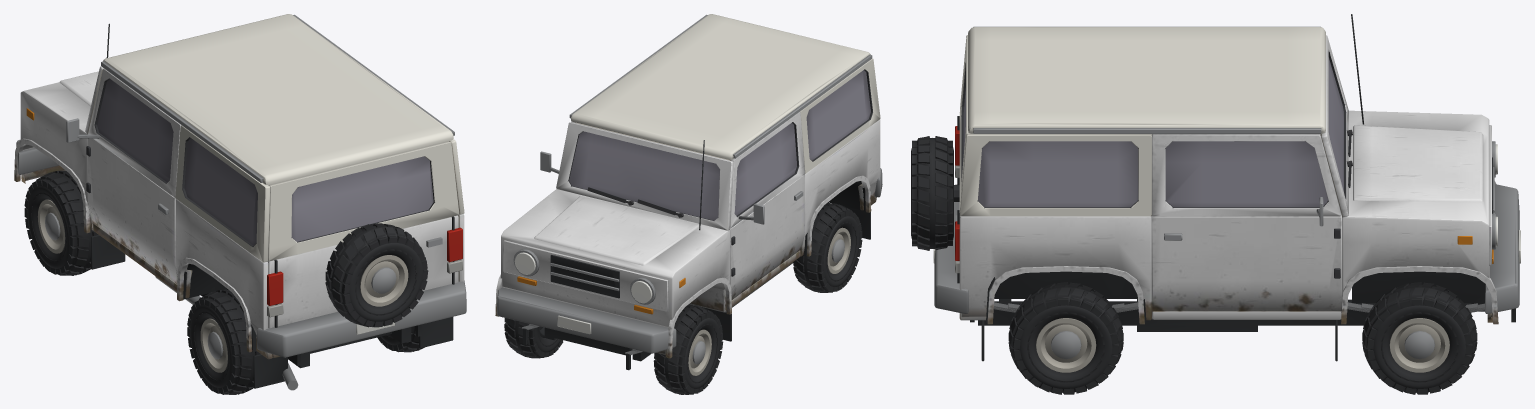
File: bronc.m.glb
The picture shows the model from 3 angles, left to right: view 1: azimuth 30°, elevation 25°; view 2: azimuth 150°, elevation 25°; view 3: azimuth 270°, elevation 25°; orthographic projection. The views are drawn at different scales.
Parts seen in each view (by area): view 1: body, door_FL, wheel_FL, wheel_RL, wheel_RR; view 2: body, door_FL, wheel_FL, wheel_RL, wheel_FR; view 3: body, door_FR, wheel_RR, wheel_FR.
Part boxes in pixels (bbox=[...]): body: bbox=[14, 14, 466, 390]; door_FL: bbox=[66, 68, 181, 283]; wheel_FL: bbox=[24, 171, 98, 275]; wheel_RL: bbox=[187, 290, 260, 394]; wheel_RR: bbox=[377, 326, 424, 352]; body: bbox=[495, 14, 882, 370]; door_FL: bbox=[730, 112, 804, 299]; wheel_FL: bbox=[653, 305, 723, 394]; wheel_RL: bbox=[793, 203, 862, 292]; wheel_FR: bbox=[504, 318, 563, 358]; body: bbox=[911, 14, 1520, 361]; door_FR: bbox=[1152, 134, 1341, 311]; wheel_RR: bbox=[1008, 282, 1123, 394]; wheel_FR: bbox=[1362, 282, 1477, 394].
Size of the model in its own units: 2.17 by 2.12 by 4.03.
Materials: 17 (1 with a texture image).
